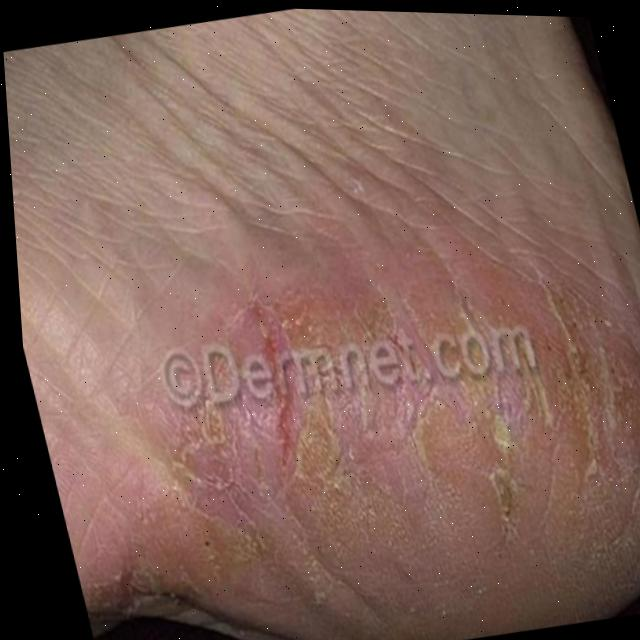Eczema: (102, 188, 640, 640)
